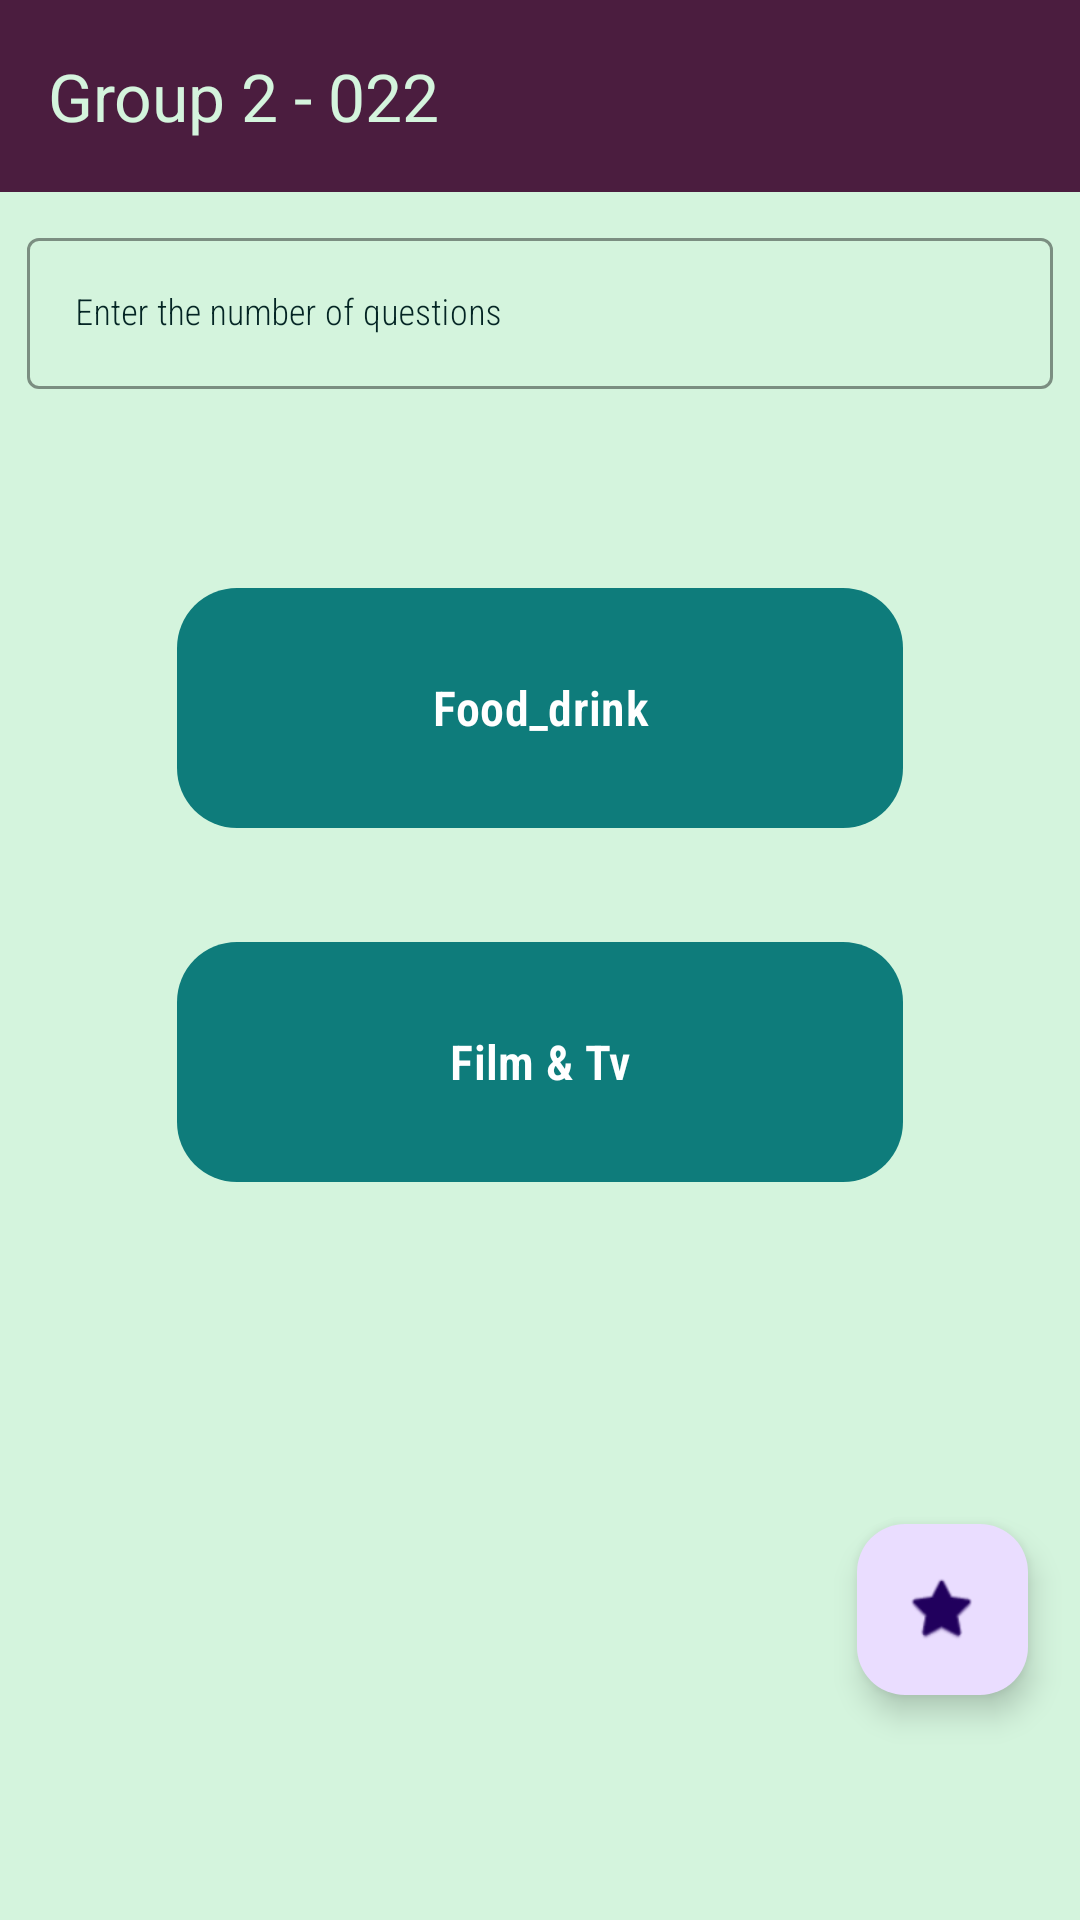

Named icons in this screenshot (1080x1920) and their centers, [x,y]:
star on: [942,1609]
